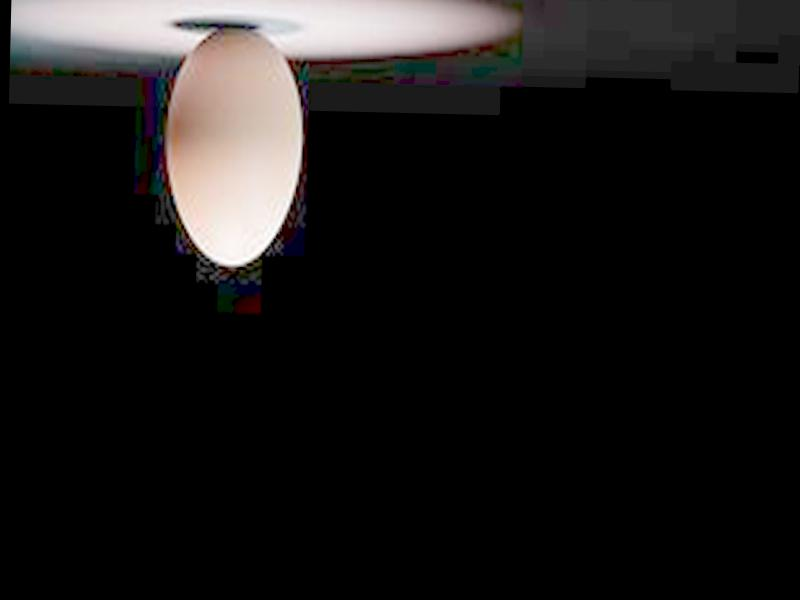Eggs: (160, 22, 304, 266)
